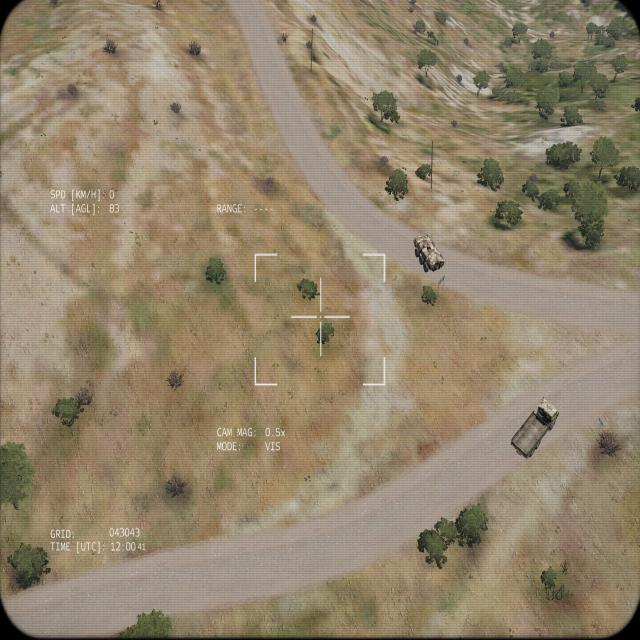apc: (411, 233, 445, 272)
truck: (509, 396, 559, 460)
